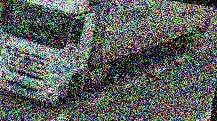truck: (0, 0, 214, 121)
